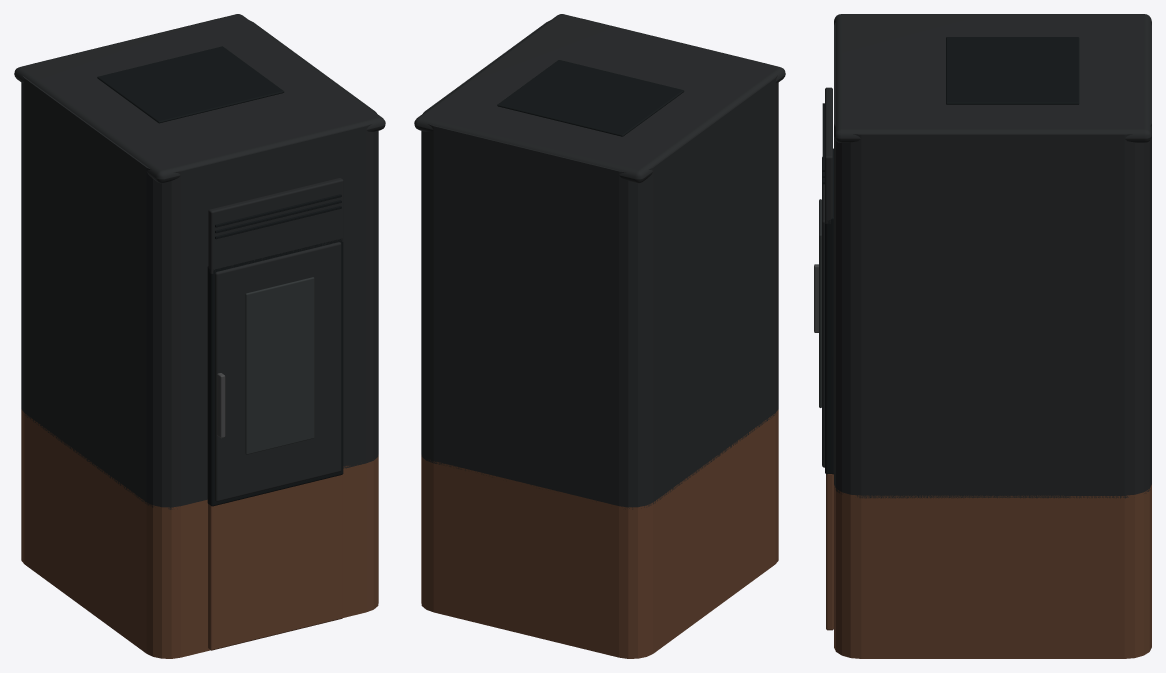
The model's file is nordica-noris-plus-evo-bronzo.glb.
3 views of the same model, side by side, from view 1: azimuth 30°, elevation 25°; view 2: azimuth 150°, elevation 25°; view 3: azimuth 270°, elevation 25° (orthographic). The views are drawn at different scales.
Visible parts, largest first — view 1: Corpo superiore, Basamento colorato, Coperchio, Pannello inferiore, Sportello, Vetro porta, Coperchio pellet, Pannello griglia, Cornice porta, Maniglia; view 2: Corpo superiore, Basamento colorato, Coperchio, Coperchio pellet; view 3: Corpo superiore, Basamento colorato, Coperchio, Coperchio pellet, Cornice porta, Pannello inferiore, Pannello griglia, Sportello, Vetro porta.
Boxes of the visible parts, <box> form: Corpo superiore: <box>21,19,378,509</box>; Basamento colorato: <box>21,409,378,658</box>; Coperchio: <box>14,14,385,183</box>; Pannello inferiore: <box>208,474,342,650</box>; Sportello: <box>215,242,341,501</box>; Vetro porta: <box>245,277,314,454</box>; Coperchio pellet: <box>97,46,284,123</box>; Pannello griglia: <box>208,178,343,274</box>; Cornice porta: <box>207,238,343,506</box>; Maniglia: <box>217,373,225,438</box>; Corpo superiore: <box>421,19,778,509</box>; Basamento colorato: <box>421,409,778,658</box>; Coperchio: <box>414,14,785,183</box>; Coperchio pellet: <box>497,60,684,136</box>; Corpo superiore: <box>834,22,1151,498</box>; Basamento colorato: <box>834,484,1151,658</box>; Coperchio: <box>834,14,1151,142</box>; Coperchio pellet: <box>946,37,1079,104</box>; Cornice porta: <box>825,148,833,474</box>; Pannello inferiore: <box>826,474,833,630</box>; Pannello griglia: <box>825,87,832,223</box>; Sportello: <box>822,157,824,467</box>; Vetro porta: <box>819,199,821,407</box>.
Bounding box in the file's own units: 0.576 × 1.18 × 0.682.
